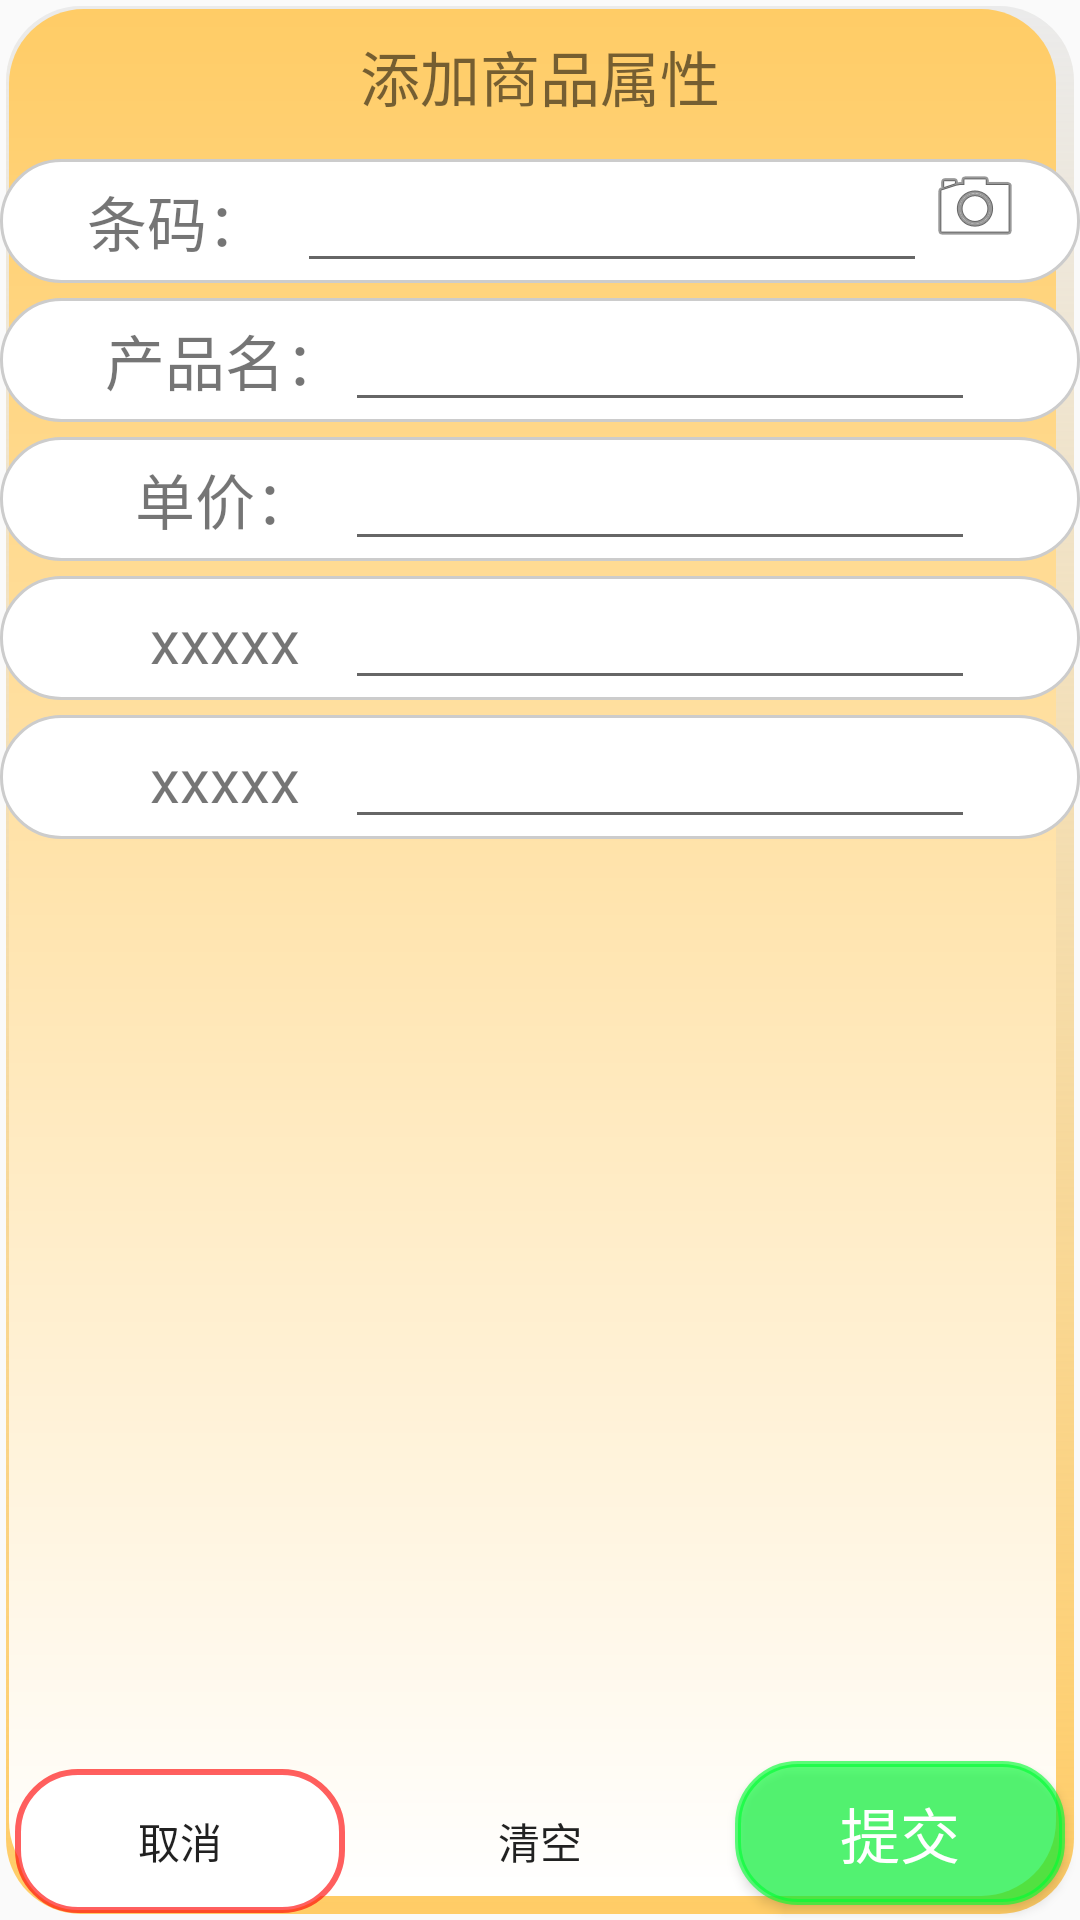

Screen size 1080w x 1920h. Icon name, then its box in pixels as region(x1, y1, x2, y2):
camera: region(938, 176, 1012, 235)
